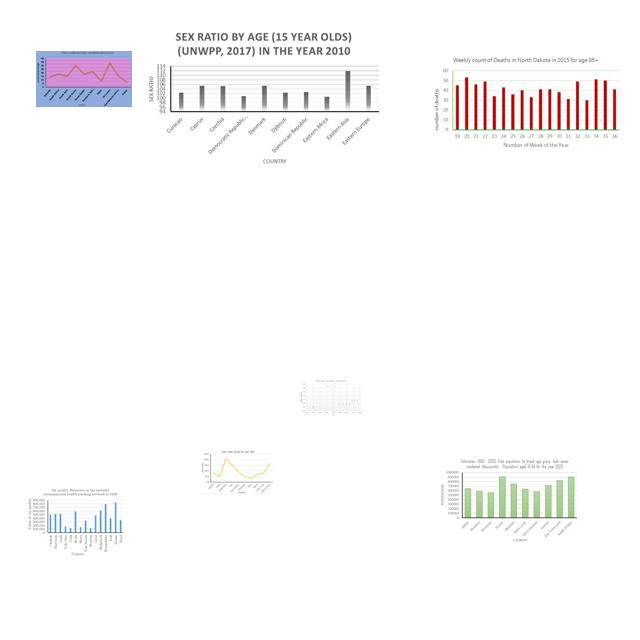Graph: (142, 29, 383, 168), (431, 55, 622, 149), (436, 456, 580, 542), (25, 487, 126, 558), (36, 51, 132, 107), (201, 450, 274, 494), (300, 379, 362, 417)
